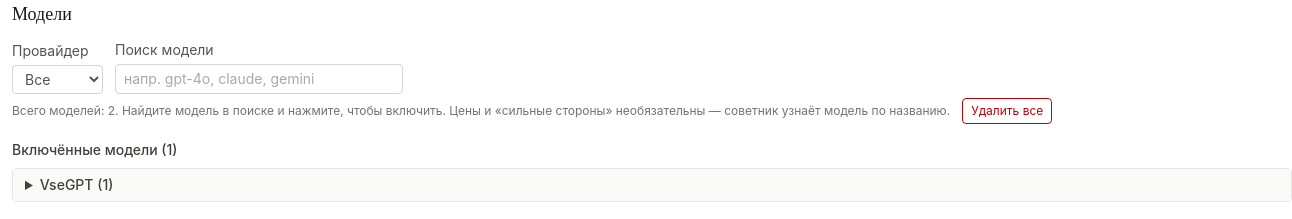
Test: ModelsSection › shows 'not found' in the dropdown for a non-matching query
In the field named "Поиск модели": (259, 79) [115,64,403,94], type "zzz"
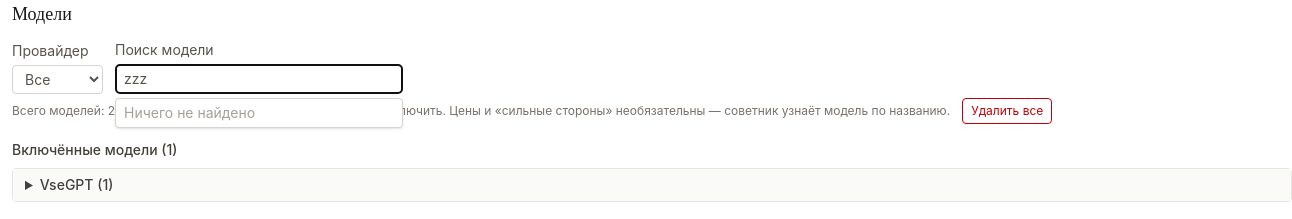
Result: the list item "Ничего не найдено" is shown at [124,104,255,121]
